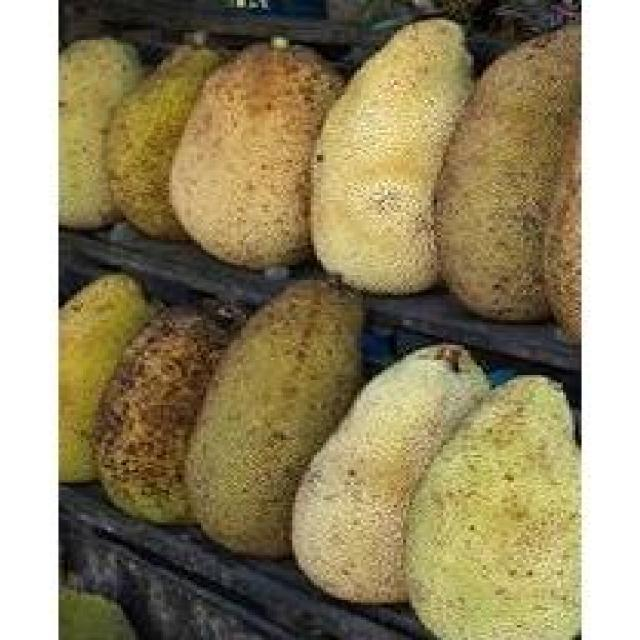Fruit: (277, 0, 578, 378), (256, 325, 584, 640)
